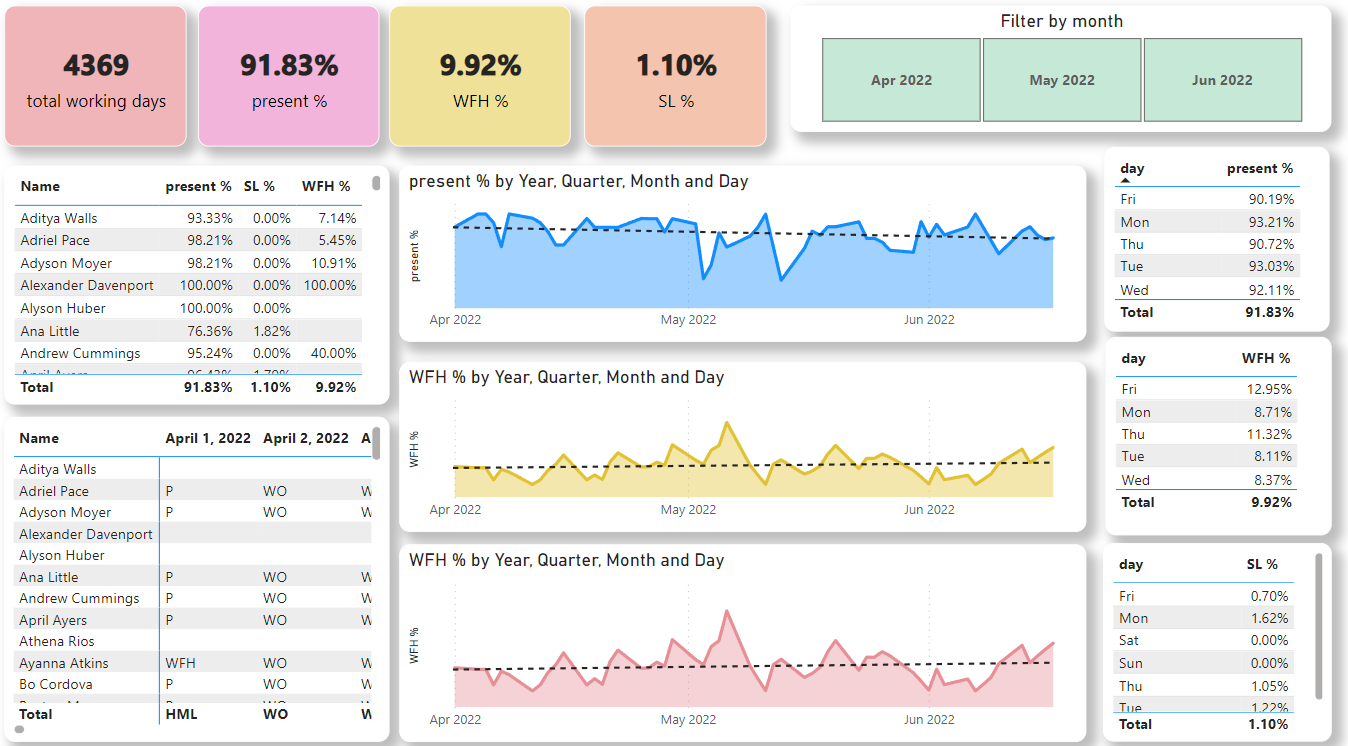

What the dashboard file says about the page in this screenshot:
{"tool":"powerbi","page":{"name":"Page 1","canvas":[1280,720],"ordinal":0},"visuals":[{"type":"card","fields":{"Values":["Measures (2).total working days"]},"box":[15.1,20.9,169.8,131.4],"z":0},{"type":"card","fields":{"Values":["Measures (2).Pressence %"]},"box":[195.2,20.5,168.7,131.3],"z":1000},{"type":"slicer","title":"Filter by month","fields":{"Values":["Combined data.Months"]},"box":[746.5,20.9,503.5,117.4],"z":2000},{"type":"card","fields":{"Values":["Measures (2).WFH %"]},"box":[373.5,20.5,168.7,131.3],"z":3000},{"type":"card","fields":{"Values":["Measures (2).SL %"]},"box":[554.7,20.9,169.8,131.4],"z":4000},{"type":"tableEx","fields":{"Values":["Combined data.Name","Measures (2).present %","Measures (2).SL %","Measures (2).WFH %"]},"box":[15.1,169.8,358.1,222.1],"z":5000},{"type":"pivotTable","fields":{"Rows":["Combined data.Name"],"Columns":["Combined data.Date"],"Values":["Combined data.Value"]},"box":[15.1,403.5,358.1,302.3],"z":6000},{"type":"areaChart","fields":{"Category":["Combined data.Date.Variation.Date Hierarchy.Year","Combined data.Date.Variation.Date Hierarchy.Quarter","Combined data.Date.Variation.Date Hierarchy.Month","Combined data.Date.Variation.Date Hierarchy.Day"],"Y":["Measures (2).present %"]},"box":[382.6,169.8,639.5,164],"z":7000},{"type":"areaChart","fields":{"Category":["Combined data.Date.Variation.Date Hierarchy.Year","Combined data.Date.Variation.Date Hierarchy.Quarter","Combined data.Date.Variation.Date Hierarchy.Month","Combined data.Date.Variation.Date Hierarchy.Day"],"Y":["Measures (2).WFH %"]},"box":[382.6,352.3,639.5,158.1],"z":8000},{"type":"areaChart","fields":{"Category":["Combined data.Date.Variation.Date Hierarchy.Year","Combined data.Date.Variation.Date Hierarchy.Quarter","Combined data.Date.Variation.Date Hierarchy.Month","Combined data.Date.Variation.Date Hierarchy.Day"],"Y":["Measures (2).SL %"]},"box":[382.6,522.1,639.5,183.7],"z":9000},{"type":"tableEx","fields":{"Values":["Combined data.day","Measures (2).present %"]},"box":[1038.4,152.3,209.3,172.1],"z":10000},{"type":"tableEx","fields":{"Values":["Combined data.day","Measures (2).WFH %"]},"box":[1039.5,329.1,210.5,184.9],"z":11000},{"type":"tableEx","fields":{"Values":["Combined data.day","Measures (2).SL %"]},"box":[1037.2,520.9,212.8,184.9],"z":12000}]}

Visuals, with their boxes in screenshot pixels (x1, y1, x2, y2), scaled from the page's 1280x720 canvas onto the 1348x746 screenshot:
card - Measures (2).total working days: x1=16, y1=22, x2=195, y2=158
card - Measures (2).Pressence %: x1=206, y1=21, x2=383, y2=157
"Filter by month" slicer: x1=786, y1=22, x2=1316, y2=143
card - Measures (2).WFH %: x1=393, y1=21, x2=571, y2=157
card - Measures (2).SL %: x1=584, y1=22, x2=763, y2=158
tableEx - Combined data.Name x Measures (2).present %: x1=16, y1=176, x2=393, y2=406
pivotTable - Combined data.Name x Combined data.Date: x1=16, y1=418, x2=393, y2=731
areaChart - Combined data.Date.Variation.Date Hierarchy.Year x Combined data.Date.Variation.Date Hierarchy.Quarter: x1=403, y1=176, x2=1076, y2=346
areaChart - Combined data.Date.Variation.Date Hierarchy.Year x Combined data.Date.Variation.Date Hierarchy.Quarter: x1=403, y1=365, x2=1076, y2=529
areaChart - Combined data.Date.Variation.Date Hierarchy.Year x Combined data.Date.Variation.Date Hierarchy.Quarter: x1=403, y1=541, x2=1076, y2=731
tableEx - Combined data.day x Measures (2).present %: x1=1094, y1=158, x2=1314, y2=336
tableEx - Combined data.day x Measures (2).WFH %: x1=1095, y1=341, x2=1316, y2=533
tableEx - Combined data.day x Measures (2).SL %: x1=1092, y1=540, x2=1316, y2=731
